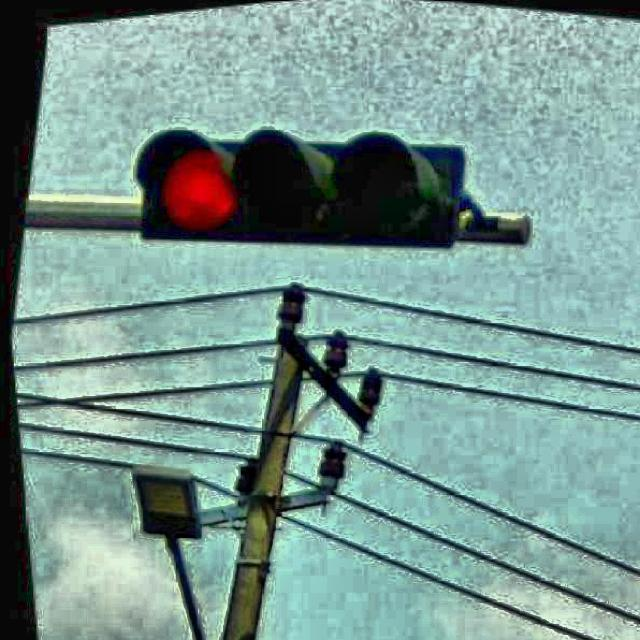red: (132, 125, 464, 250)
